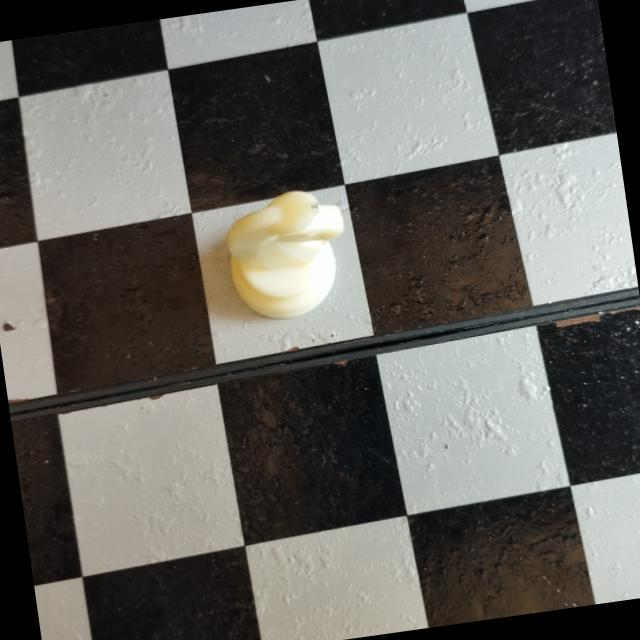White Knight: (210, 168, 363, 338)
